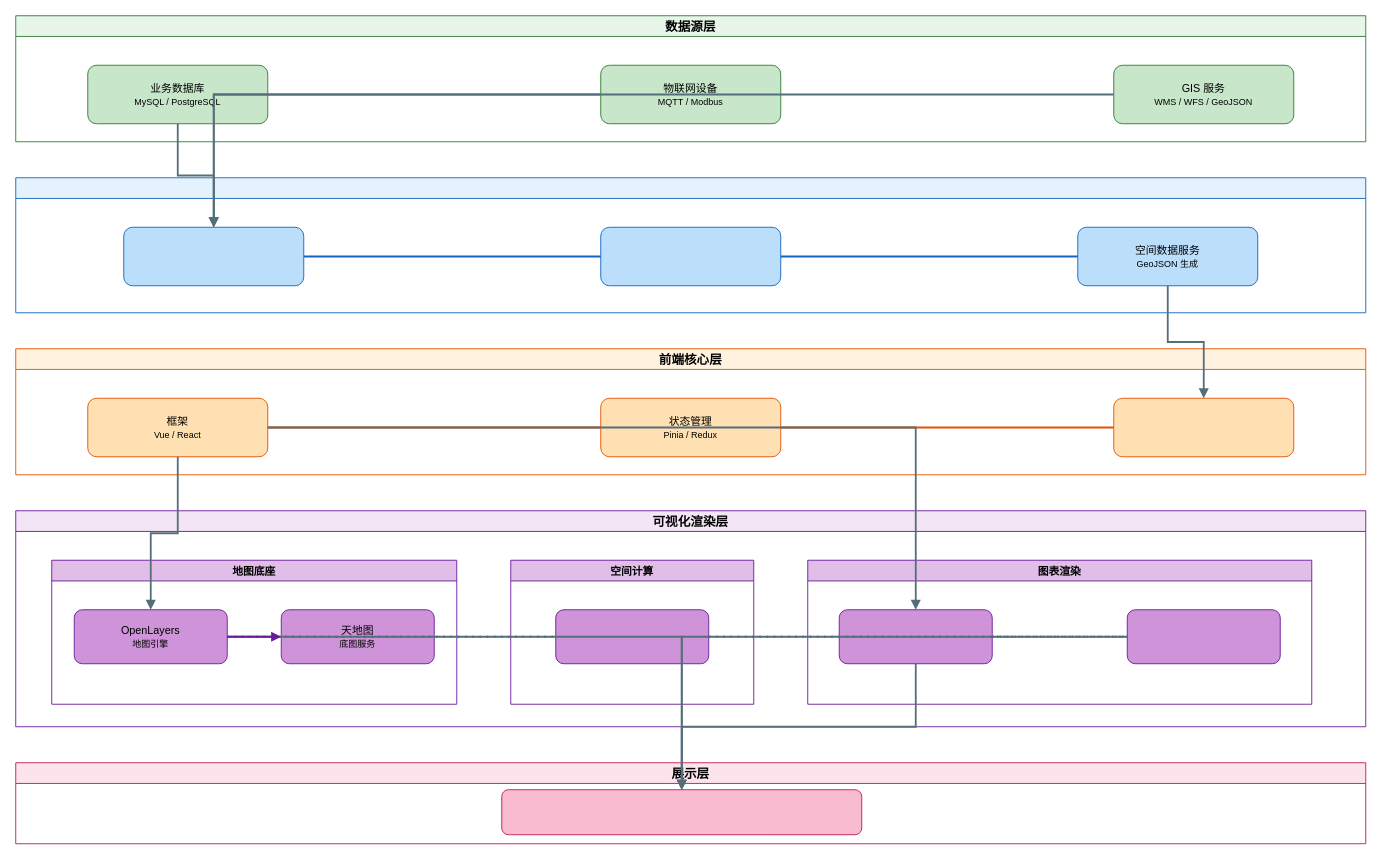
The diagram is 1382 pixels wide and 860 high, and some of its shapes have lost their labels. The shapes that lost their labels are listed below. From the top down, each one's box as (x1, y1, x2, y2) in pixels, then its label:
(123, 226, 304, 286): 核心业务与API Golang / Java
(15, 177, 1366, 313): 后端服务层
(600, 226, 781, 286): 数据清洗与聚合
(1113, 397, 1294, 457): HTTP 客户端 Axios / Fetch
(555, 609, 709, 664): turf.js 地理空间分析
(838, 609, 992, 664): ECharts 统计图表
(1126, 609, 1280, 664): ECharts GL 热力图 / 3D
(501, 789, 862, 835): 可视化大屏 · 数据驾驶舱
